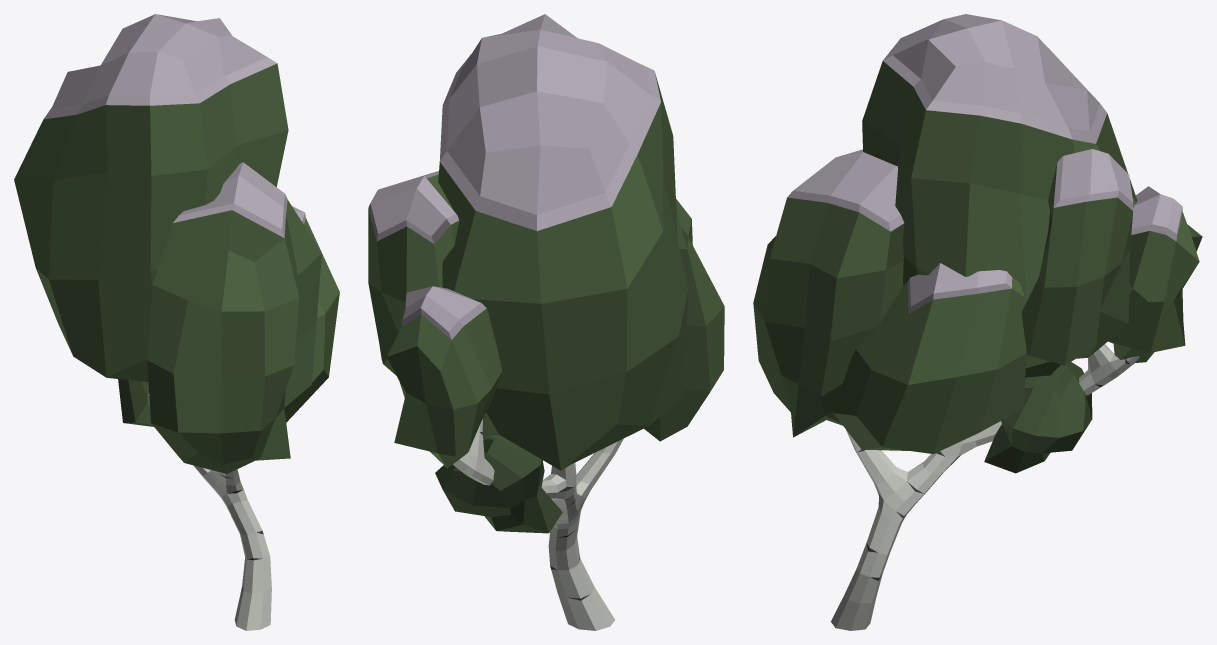
The model's file is BirchTree_Snow_1.glb.
3 renders of one model, left to right at view 1: azimuth 30°, elevation 25°; view 2: azimuth 150°, elevation 25°; view 3: azimuth 270°, elevation 25°, orthographic. The views are drawn at different scales.
Parts seen in each view (by area): view 1: BirchTree; view 2: BirchTree; view 3: BirchTree.
Boxes of the visible parts, box(x1,y1,x2,y2) form: BirchTree: box(14, 14, 339, 630); BirchTree: box(368, 14, 724, 630); BirchTree: box(753, 14, 1202, 630).
Bounding box in the file's own units: 1.7 × 3.59 × 2.48.
